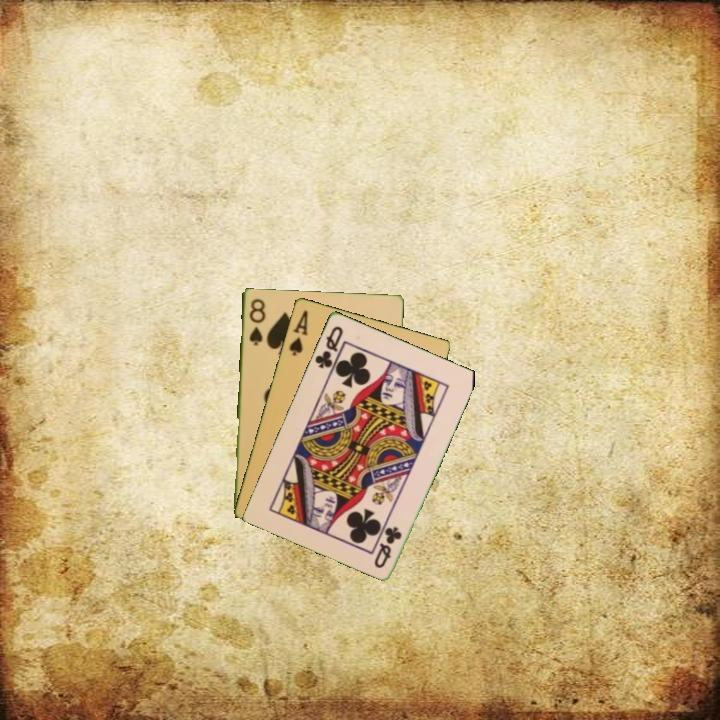8s: (245, 295, 268, 348)
As: (285, 306, 311, 358)
Qc: (311, 322, 346, 376), (370, 522, 405, 571)
